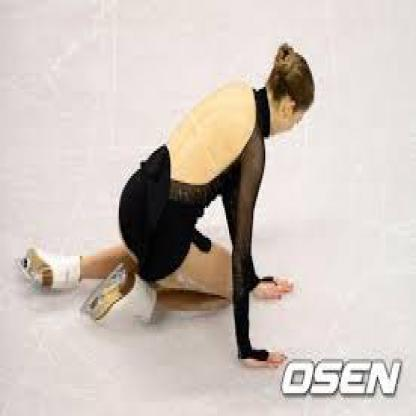Fall_Down: (26, 44, 316, 370)
